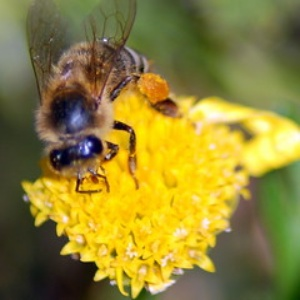bee: (21, 3, 186, 202)
